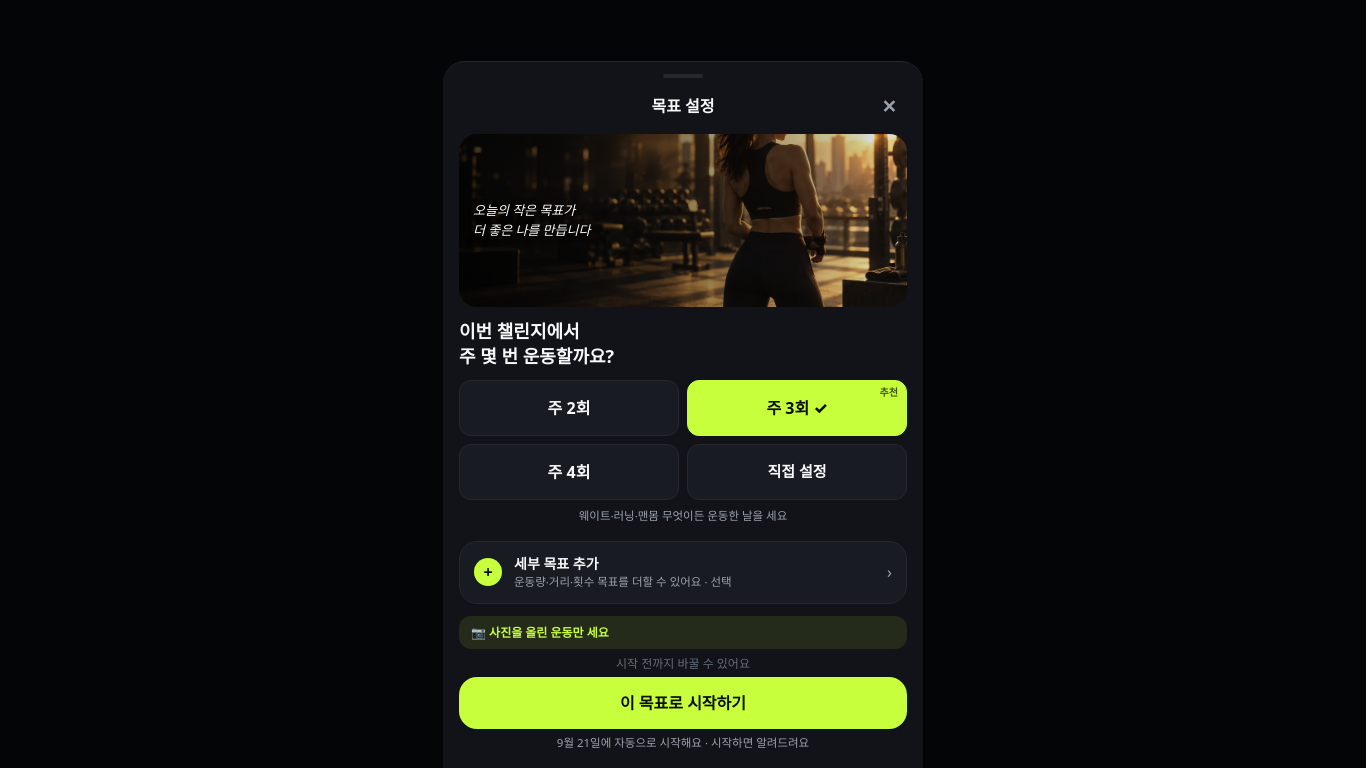
Scenario: 세부 목표 — 완전히 선택이다 › 유산소는 하루 기준으로 열리고, 주로 바꾸면 숫자도 같이 환산된다
The image size is (1366, 768).
Click the button "+ 세부 목표 추가 운동량·거리·횟수 목표를 더할 수 있어요 · 선택 ›": point(683, 572) x1=459 y1=541 x2=907 y2=604
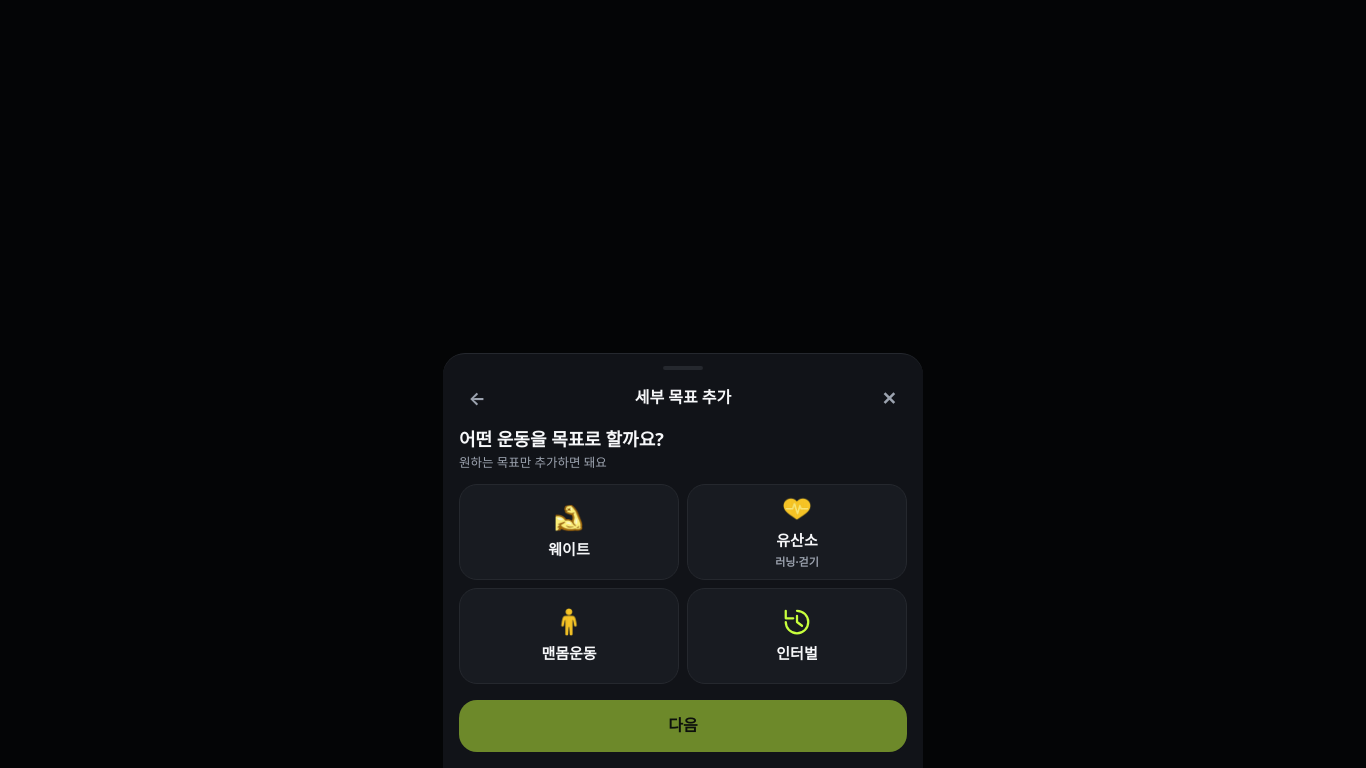
Click the radio button labelled "유산소 러닝·걷기": point(797, 532) x1=687 y1=484 x2=907 y2=580
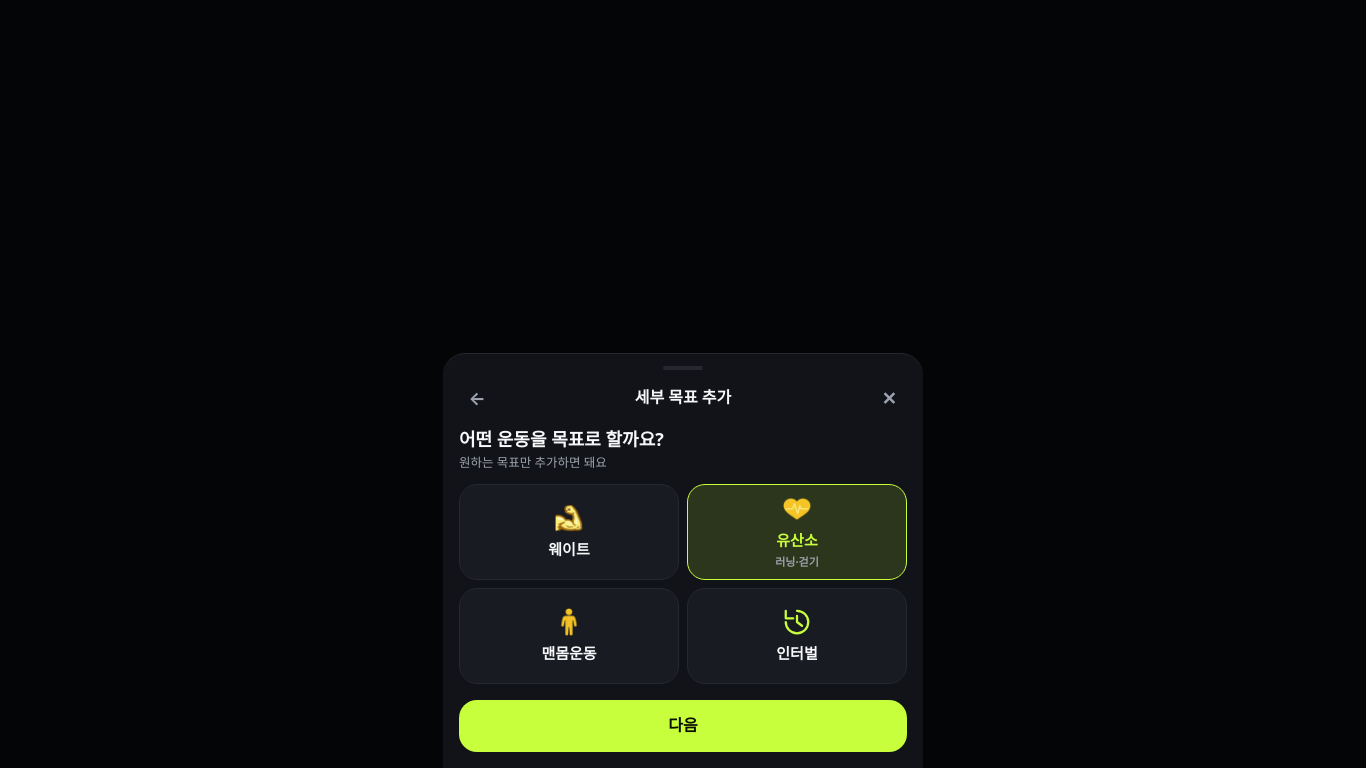
Click the button "다음": point(683, 726) x1=459 y1=700 x2=907 y2=752
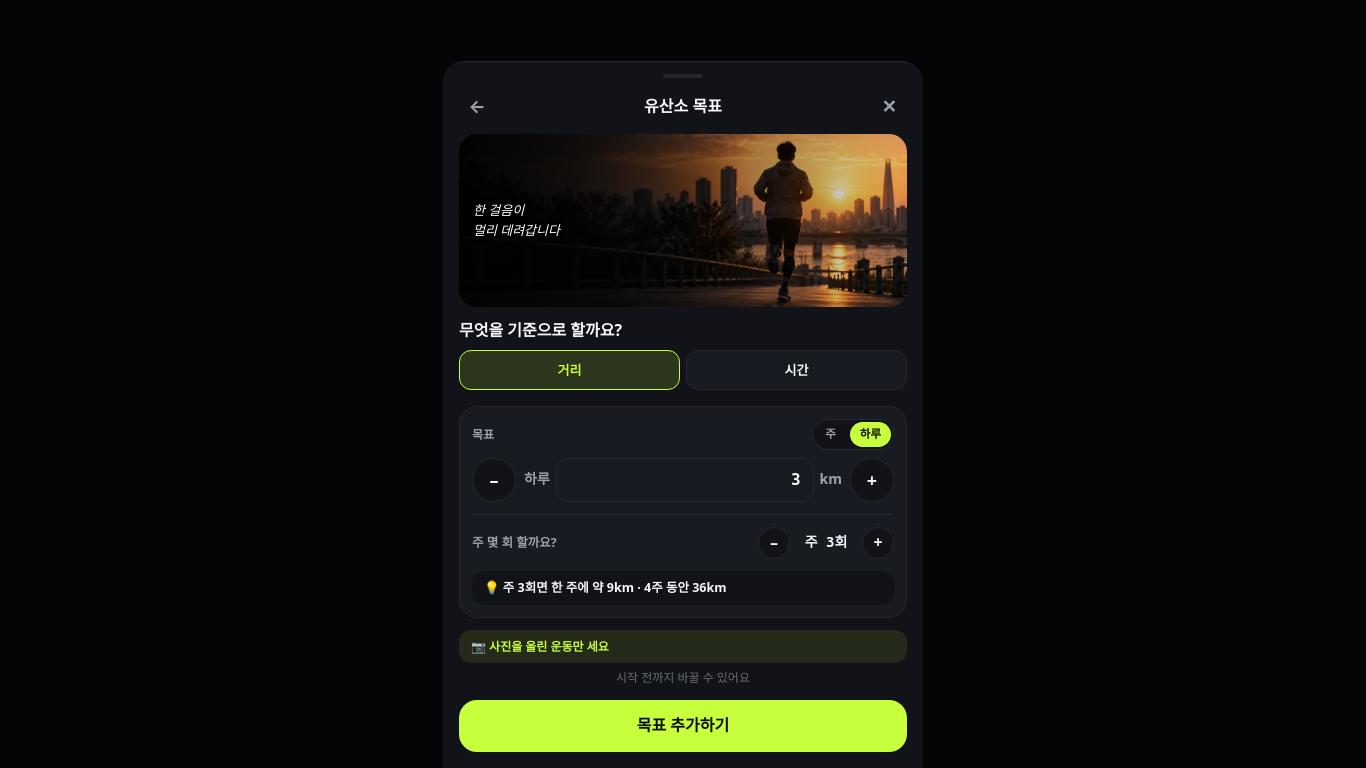
Expected: the field named "하루 목표" holds "3", x1=556 y1=458 x2=814 y2=502
Expected: the text "💡 주 3회면 한 주에 약 9km · 4주 동안 36km" is shown, x1=472 y1=571 x2=894 y2=605
# ⚠️ 단위만 바꿨는데 목표가 3배로 뛰면 안 된다 — 숫자를 같이 환산한다
Click the radio button labelled "주": point(830, 434) x1=815 y1=422 x2=846 y2=447
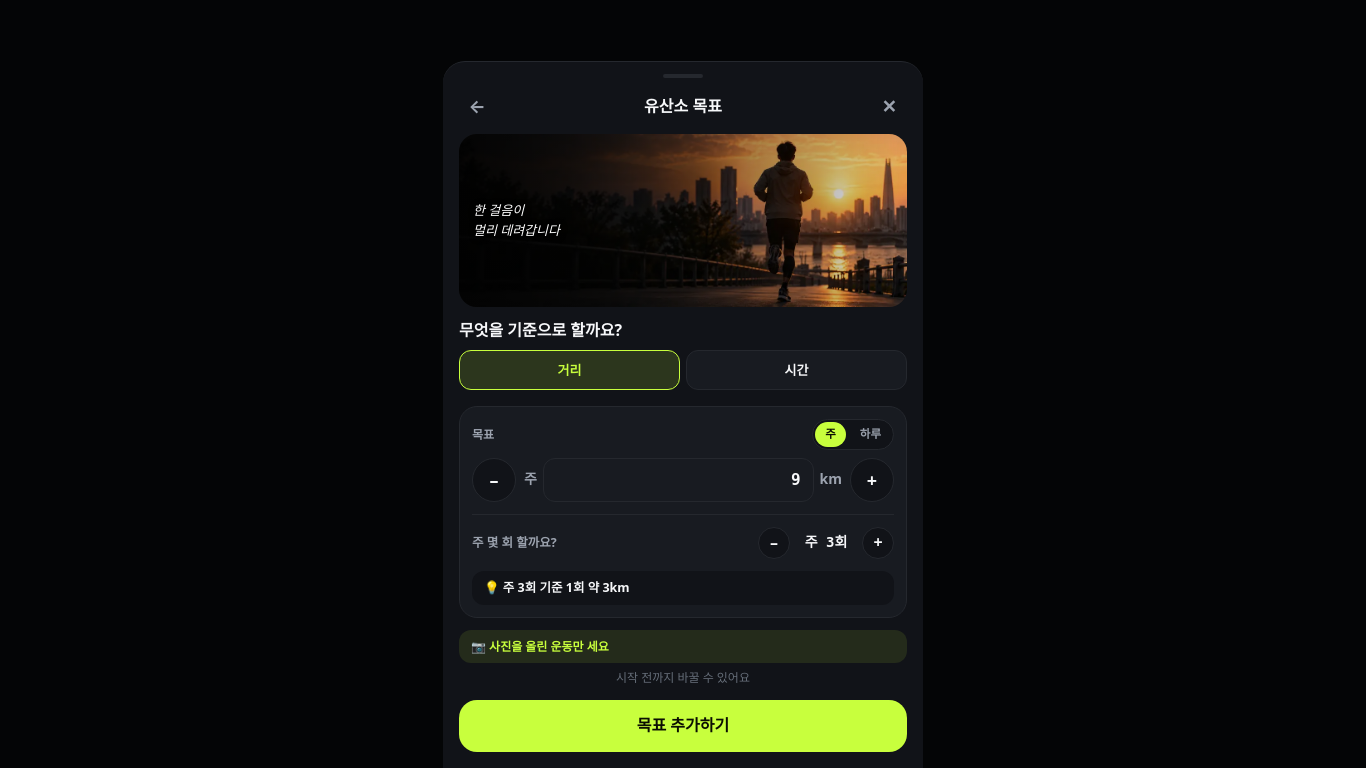
Expected: the field named "주간 목표" holds "9", x1=543 y1=458 x2=814 y2=502
